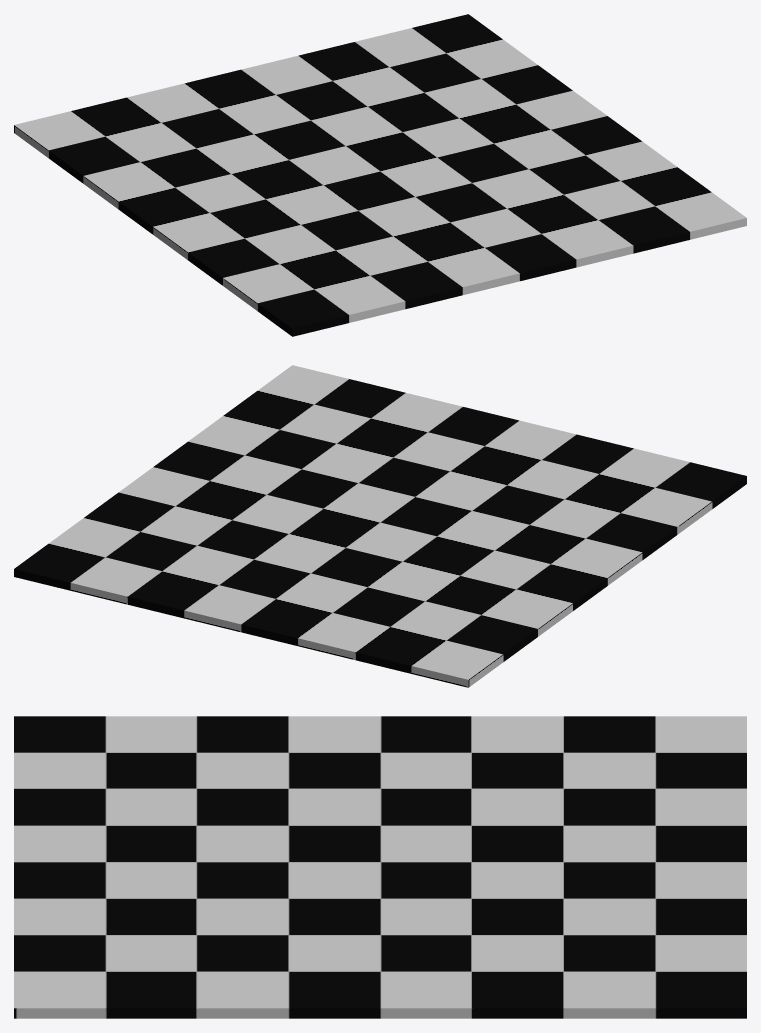
File: floor.fbx
3 views of the same model, one above another, from view 1: azimuth 30°, elevation 25°; view 2: azimuth 150°, elevation 25°; view 3: azimuth 270°, elevation 25° (orthographic). The views are drawn at different scales.
Parts seen in each view (by area): view 1: floor; view 2: floor; view 3: floor.
Part boxes in pixels (<box>): floor: <box>14,14,746,336</box>; floor: <box>14,365,746,687</box>; floor: <box>14,716,746,1018</box>.
Bounding box in the file's own units: 1323 × 22.26 × 1404.
Materials: 1 (1 with a texture image).
